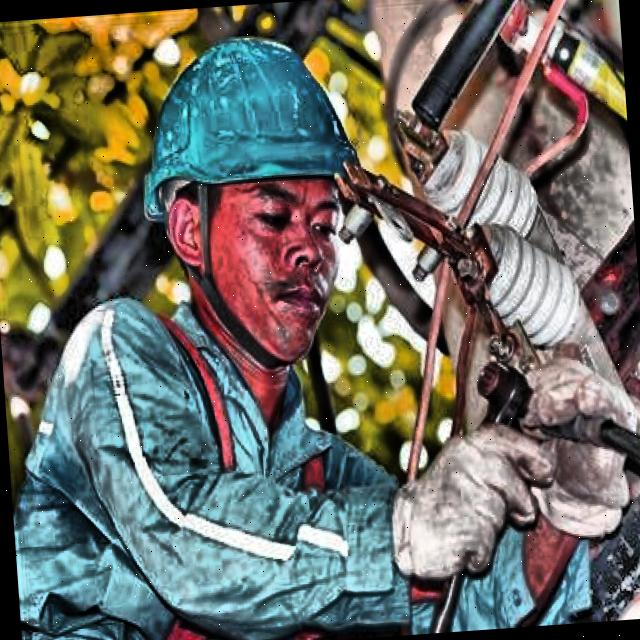helmet: (125, 16, 378, 378)
